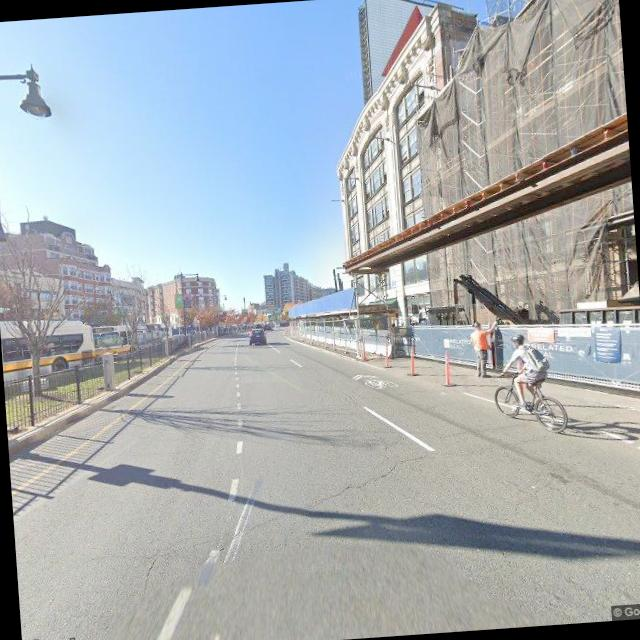crack: (162, 444, 434, 548)
